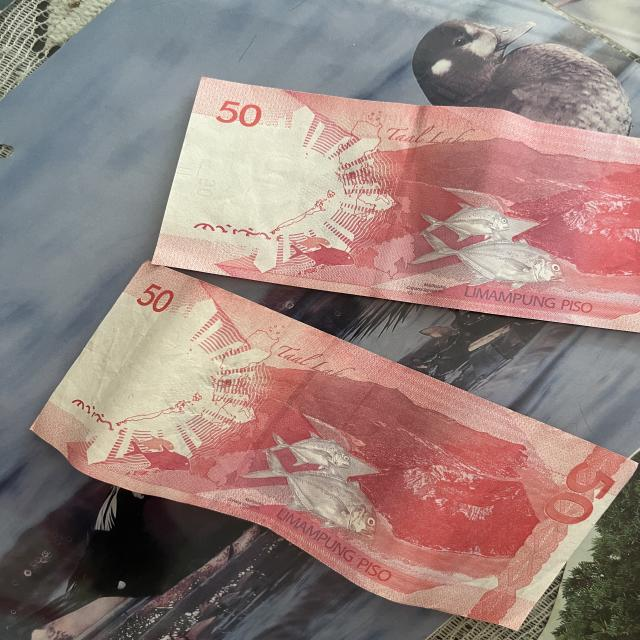50_maliputo: (247, 429, 389, 543), (405, 194, 562, 294)
50_maliputo_watermark: (121, 426, 200, 484), (278, 228, 362, 276)
value_watermark: (190, 170, 220, 205)
